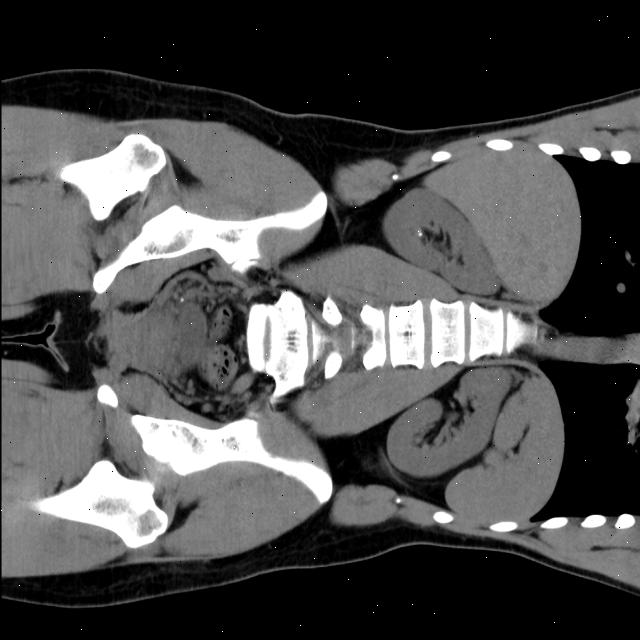kidneystone: (416, 226, 423, 242)
